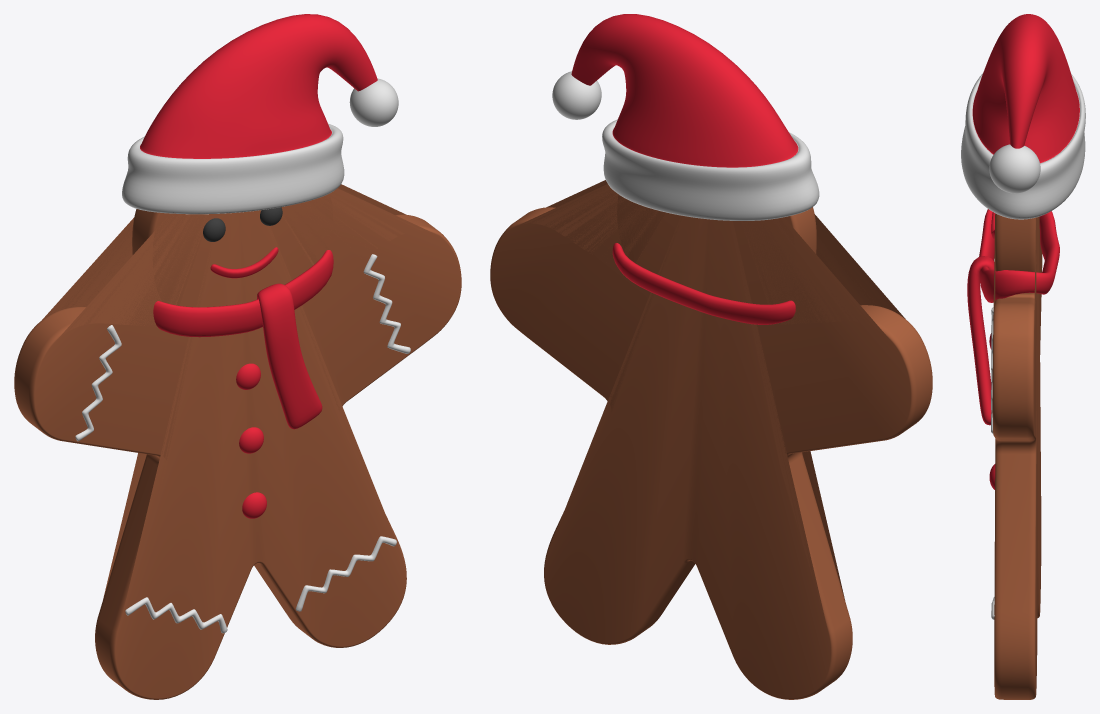
The model's file is gingerbread 1.fbx.
The picture shows the model from 3 angles, left to right: view 1: azimuth 30°, elevation 25°; view 2: azimuth 150°, elevation 25°; view 3: azimuth 270°, elevation 25°; orthographic projection.
Visible parts, largest first — view 1: Curve, Circle.002, Vert.001, Vert, Vert.012, Vert.010, Vert.011, Vert.009, Sphere.024; view 2: Curve, Circle.002, Vert; view 3: Curve, Circle.002, Vert, Vert.001, Vert.010.
Boxes of the visible parts, box(x1,y1,x2,y2) form: Curve: box(14, 184, 461, 699); Circle.002: box(122, 14, 398, 214); Vert.001: box(257, 283, 322, 429); Vert: box(153, 250, 333, 337); Vert.012: box(295, 536, 396, 611); Vert.010: box(363, 254, 410, 353); Vert.011: box(125, 597, 227, 633); Vert.009: box(75, 325, 121, 441); Sphere.024: box(210, 247, 278, 278); Curve: box(490, 180, 932, 699); Circle.002: box(552, 14, 819, 220); Vert: box(612, 243, 795, 324); Curve: box(992, 213, 1042, 699); Circle.002: box(961, 14, 1085, 219); Vert: box(979, 209, 1059, 302); Vert.001: box(967, 256, 994, 425); Vert.010: box(991, 307, 993, 433).
Size of the model in its own units: 252 by 360 by 62.5.
